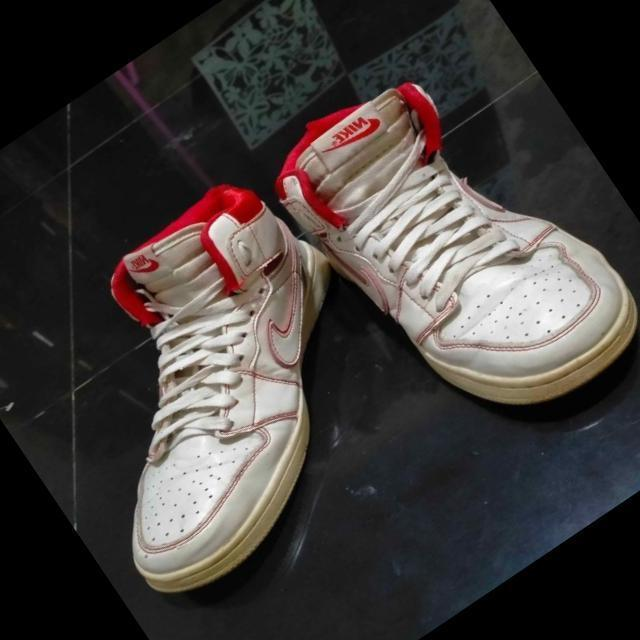nike fake jordan 1: (0, 161, 436, 615), (244, 19, 640, 470)
